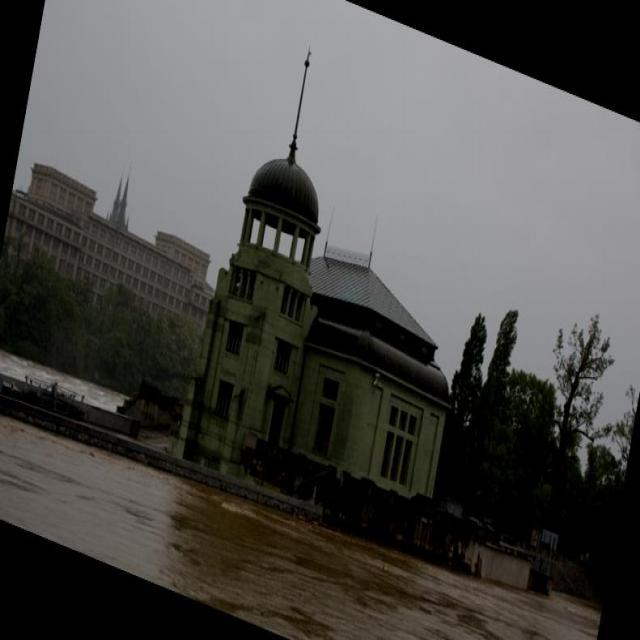flood: (0, 354, 602, 639)
